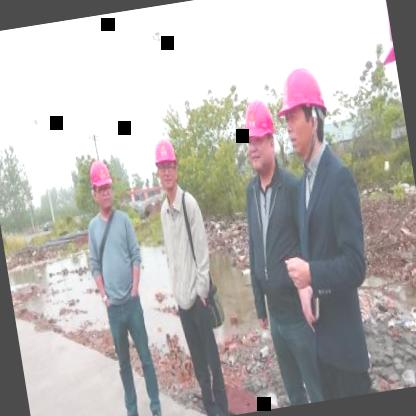helmet: (274, 61, 334, 162), (236, 92, 284, 178), (147, 130, 185, 197), (85, 156, 119, 212)
